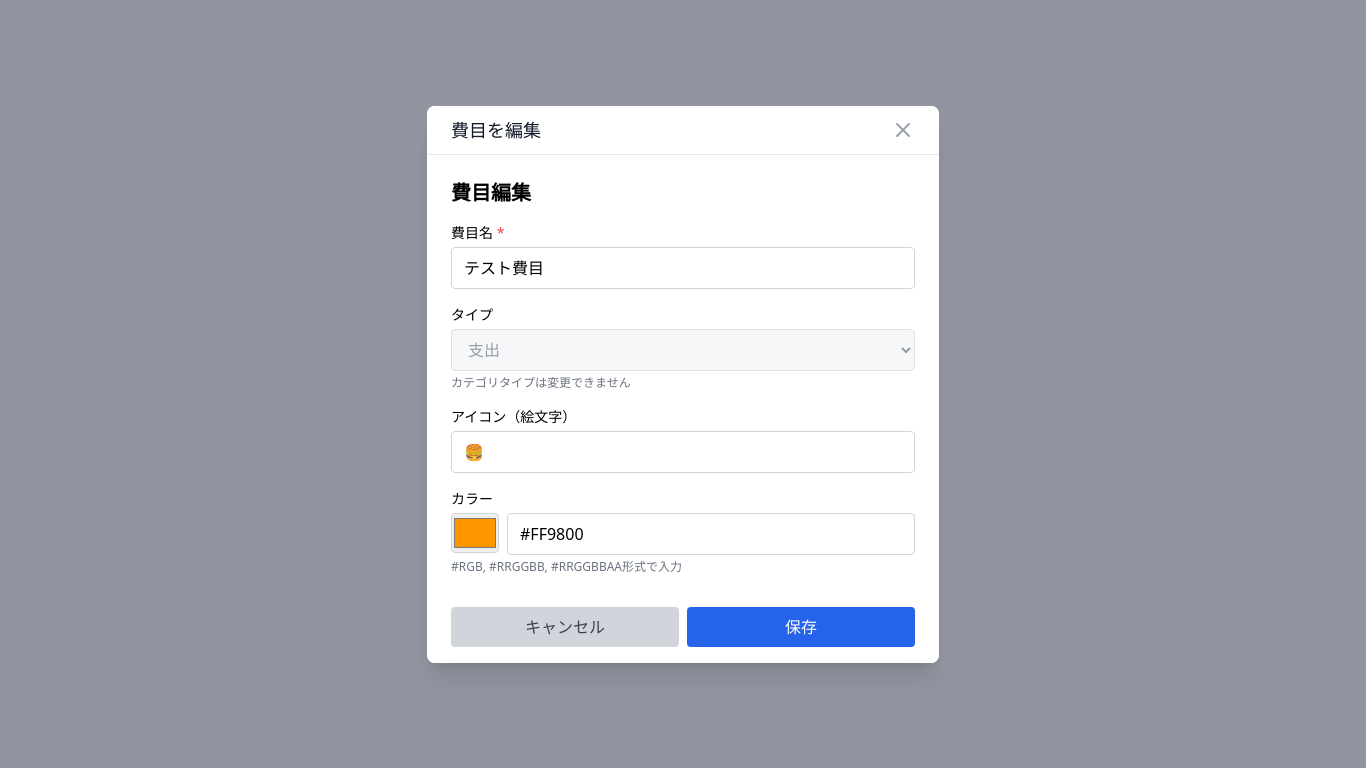
Test: CategoryEditModal › 更新エラー時にエラーメッセージが表示される
This screenshot has width=1366, height=768.
Step 1. Click the button "保存" → (801, 626), box [687,606,915,646]
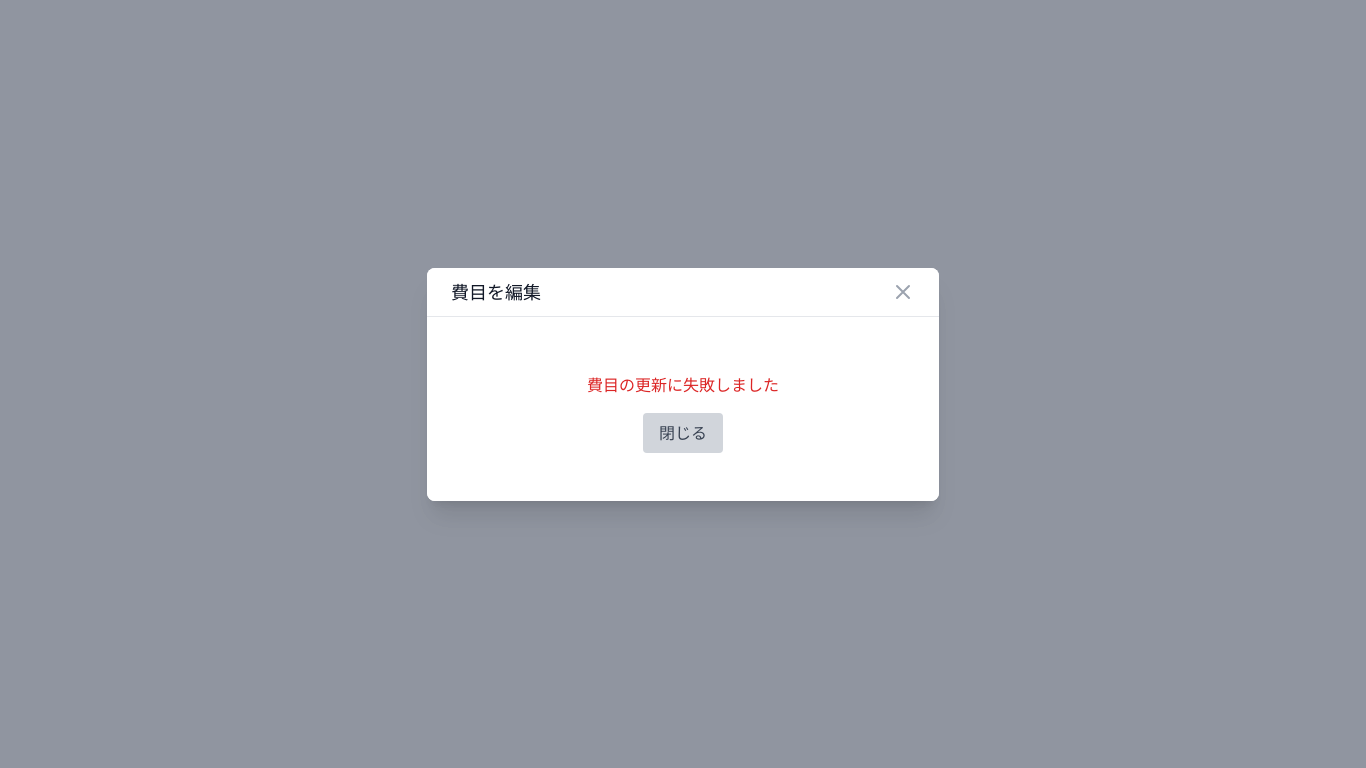
Check: the text "費目の更新に失敗しました" is shown, box [587,374,779,396]
